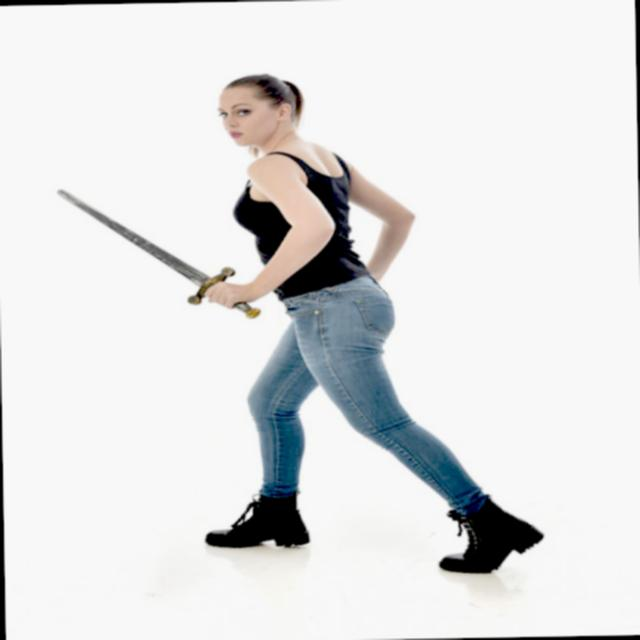long sword: (55, 178, 263, 326)
